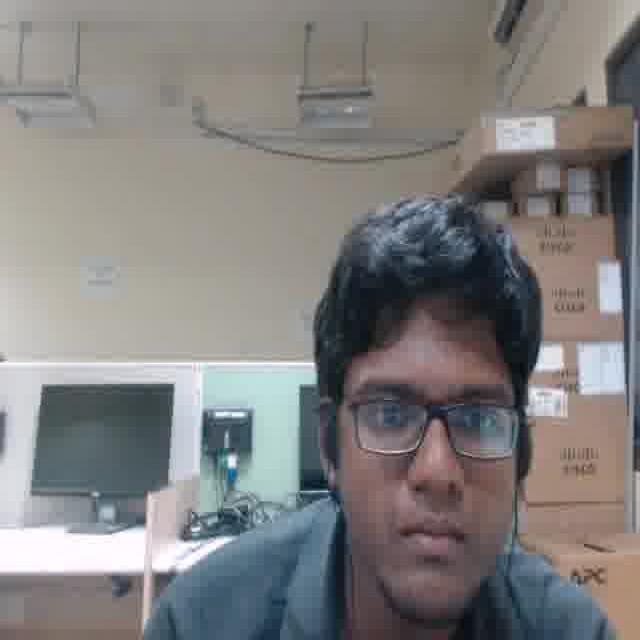Boredom: (343, 306, 515, 610)
